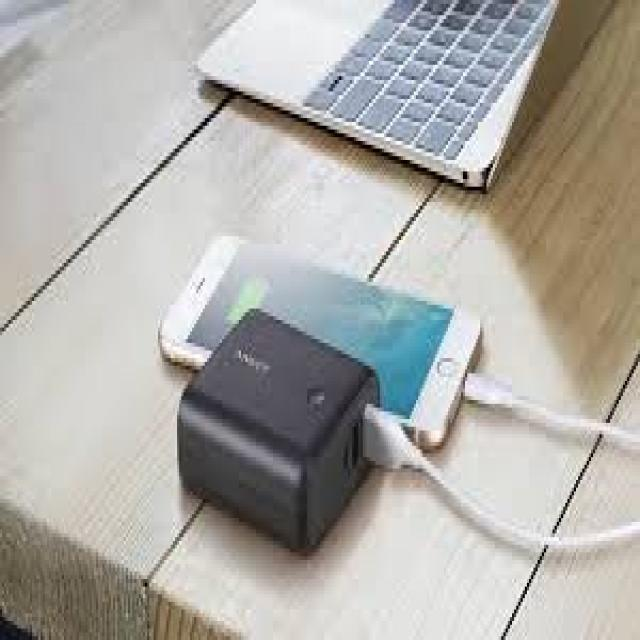portable-charger: (176, 303, 382, 557)
